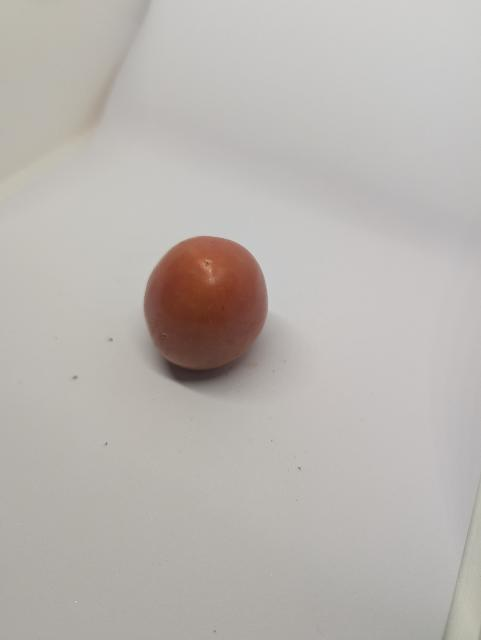red: (143, 233, 272, 372)
